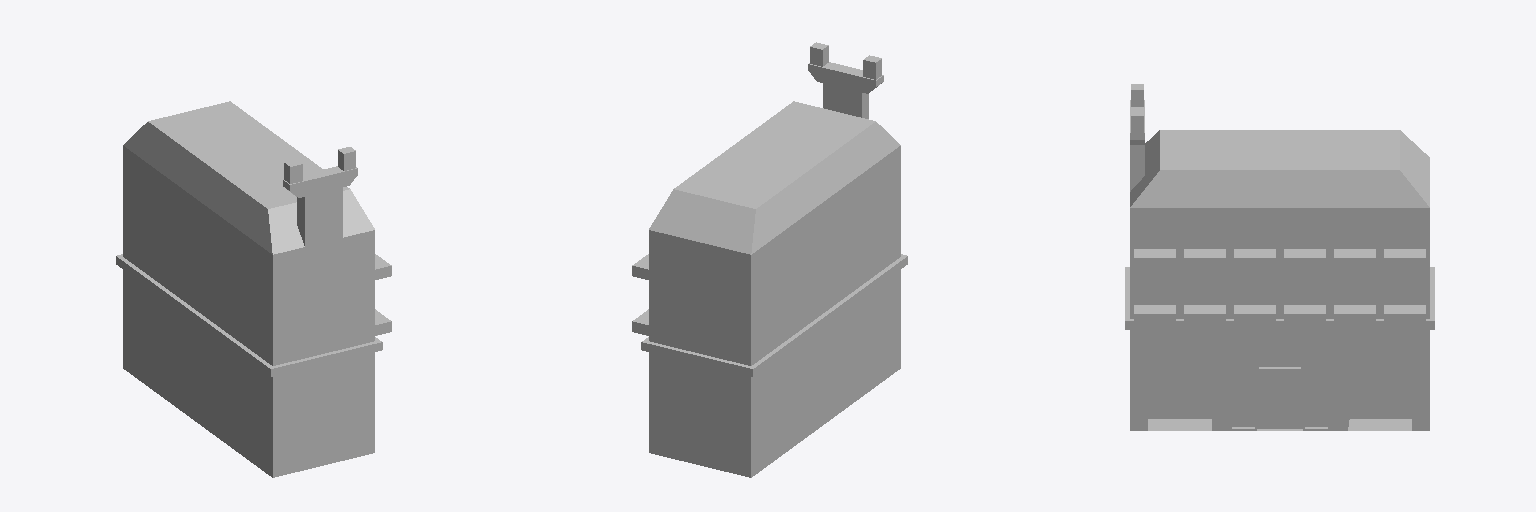
File: building_05.obj
3 views of the same model, side by side, from view 1: azimuth 30°, elevation 25°; view 2: azimuth 150°, elevation 25°; view 3: azimuth 270°, elevation 25° (orthographic).
Parts seen in each view (by area): view 1: Cube3_copy8; view 2: Cube3_copy8; view 3: Cube3_copy8.
Part boxes in pixels (x1,y1,x2,y2): Cube3_copy8: (116,101,391,477); Cube3_copy8: (632,42,907,477); Cube3_copy8: (1125,84,1434,430).
Size of the model in its own units: 334 by 779 by 715.